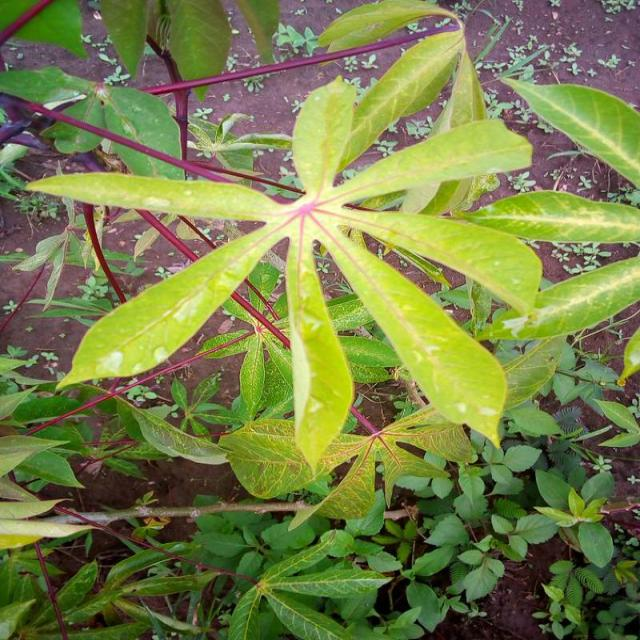cassava leaf: (32, 22, 546, 475), (314, 213, 508, 449), (284, 225, 354, 475), (498, 74, 640, 188)
